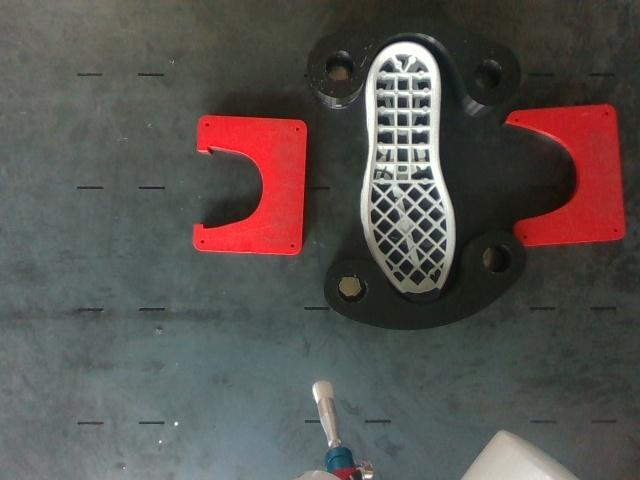shoes: (367, 43, 453, 300)
